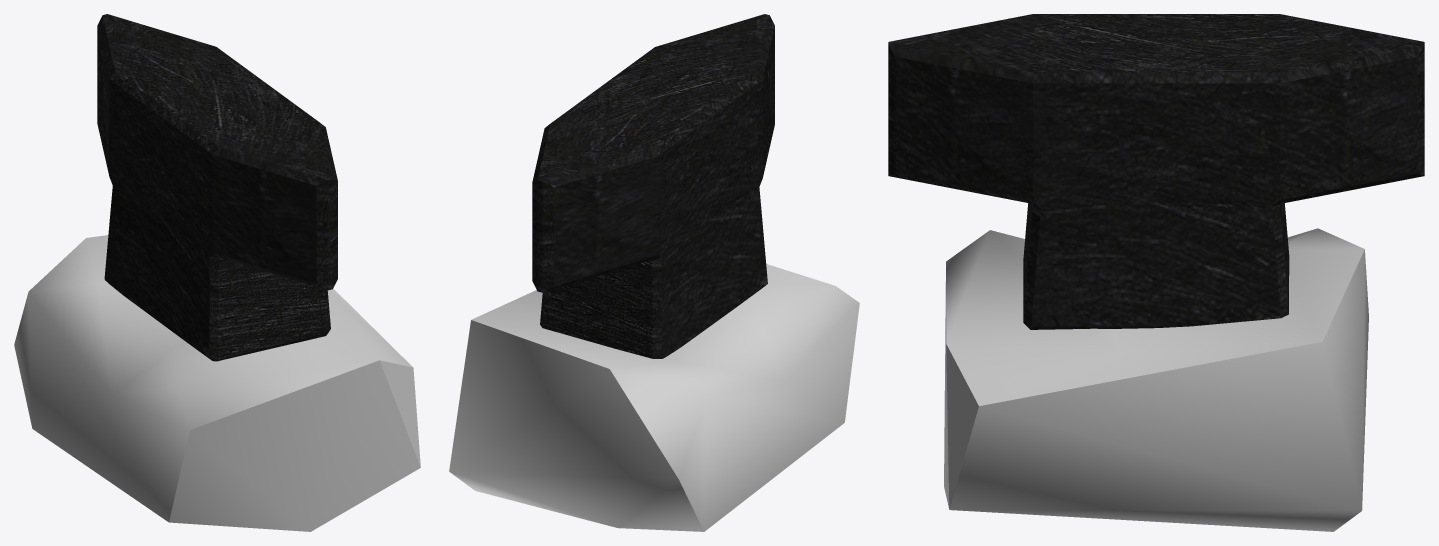
File: anvil.FBX
The picture shows the model from 3 angles, left to right: view 1: azimuth 30°, elevation 25°; view 2: azimuth 150°, elevation 25°; view 3: azimuth 270°, elevation 25°; orthographic projection. The views are drawn at different scales.
Parts seen in each view (by area): view 1: anvil; view 2: anvil; view 3: anvil.
Part boxes in pixels (x1,y1,x2,y2): anvil: (14, 14, 420, 531); anvil: (449, 14, 859, 531); anvil: (888, 14, 1424, 531).
Bounding box in the file's own units: 75.96 × 122 × 111.
